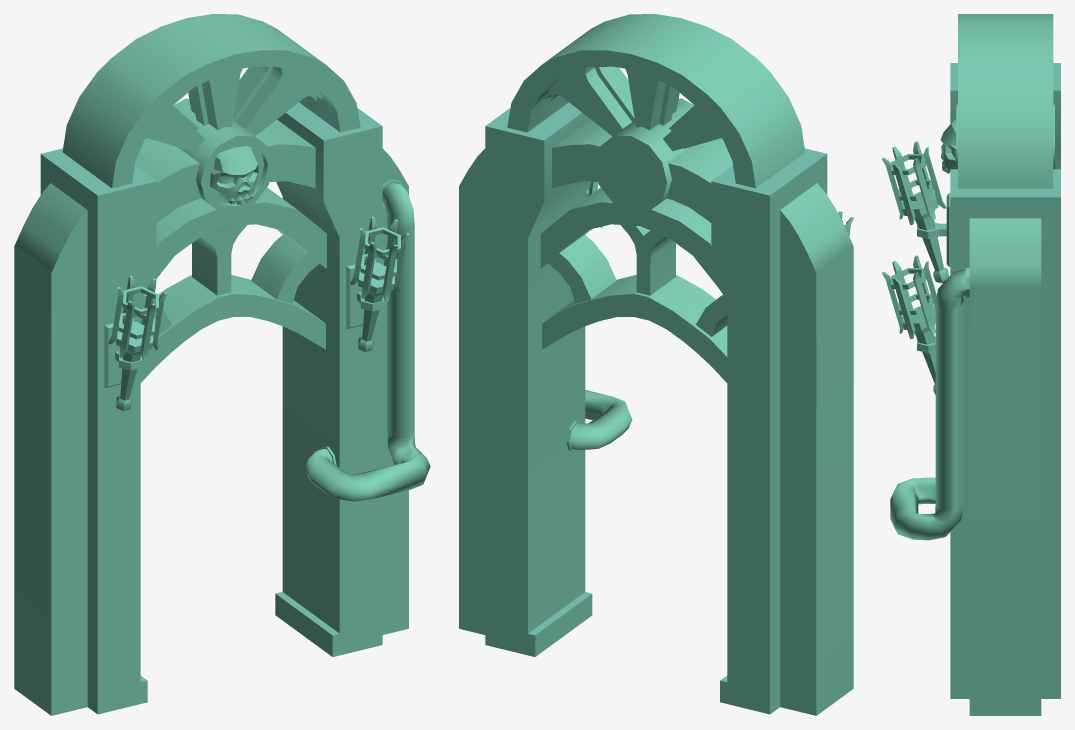
The model's file is GateDoor.fbx.
3 views of the same model, side by side, from view 1: azimuth 30°, elevation 25°; view 2: azimuth 150°, elevation 25°; view 3: azimuth 270°, elevation 25° (orthographic). The views are drawn at different scales.
Parts seen in each view (by area): view 1: GateDoor; view 2: GateDoor; view 3: GateDoor.
Boxes of the visible parts, x1,y1,x2,y2 form: GateDoor: (14,14,430,715); GateDoor: (459,14,853,715); GateDoor: (882,14,1060,715).
Size of the model in its own units: 360 by 600 by 162.
